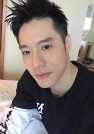male: (10, 6, 74, 94)
